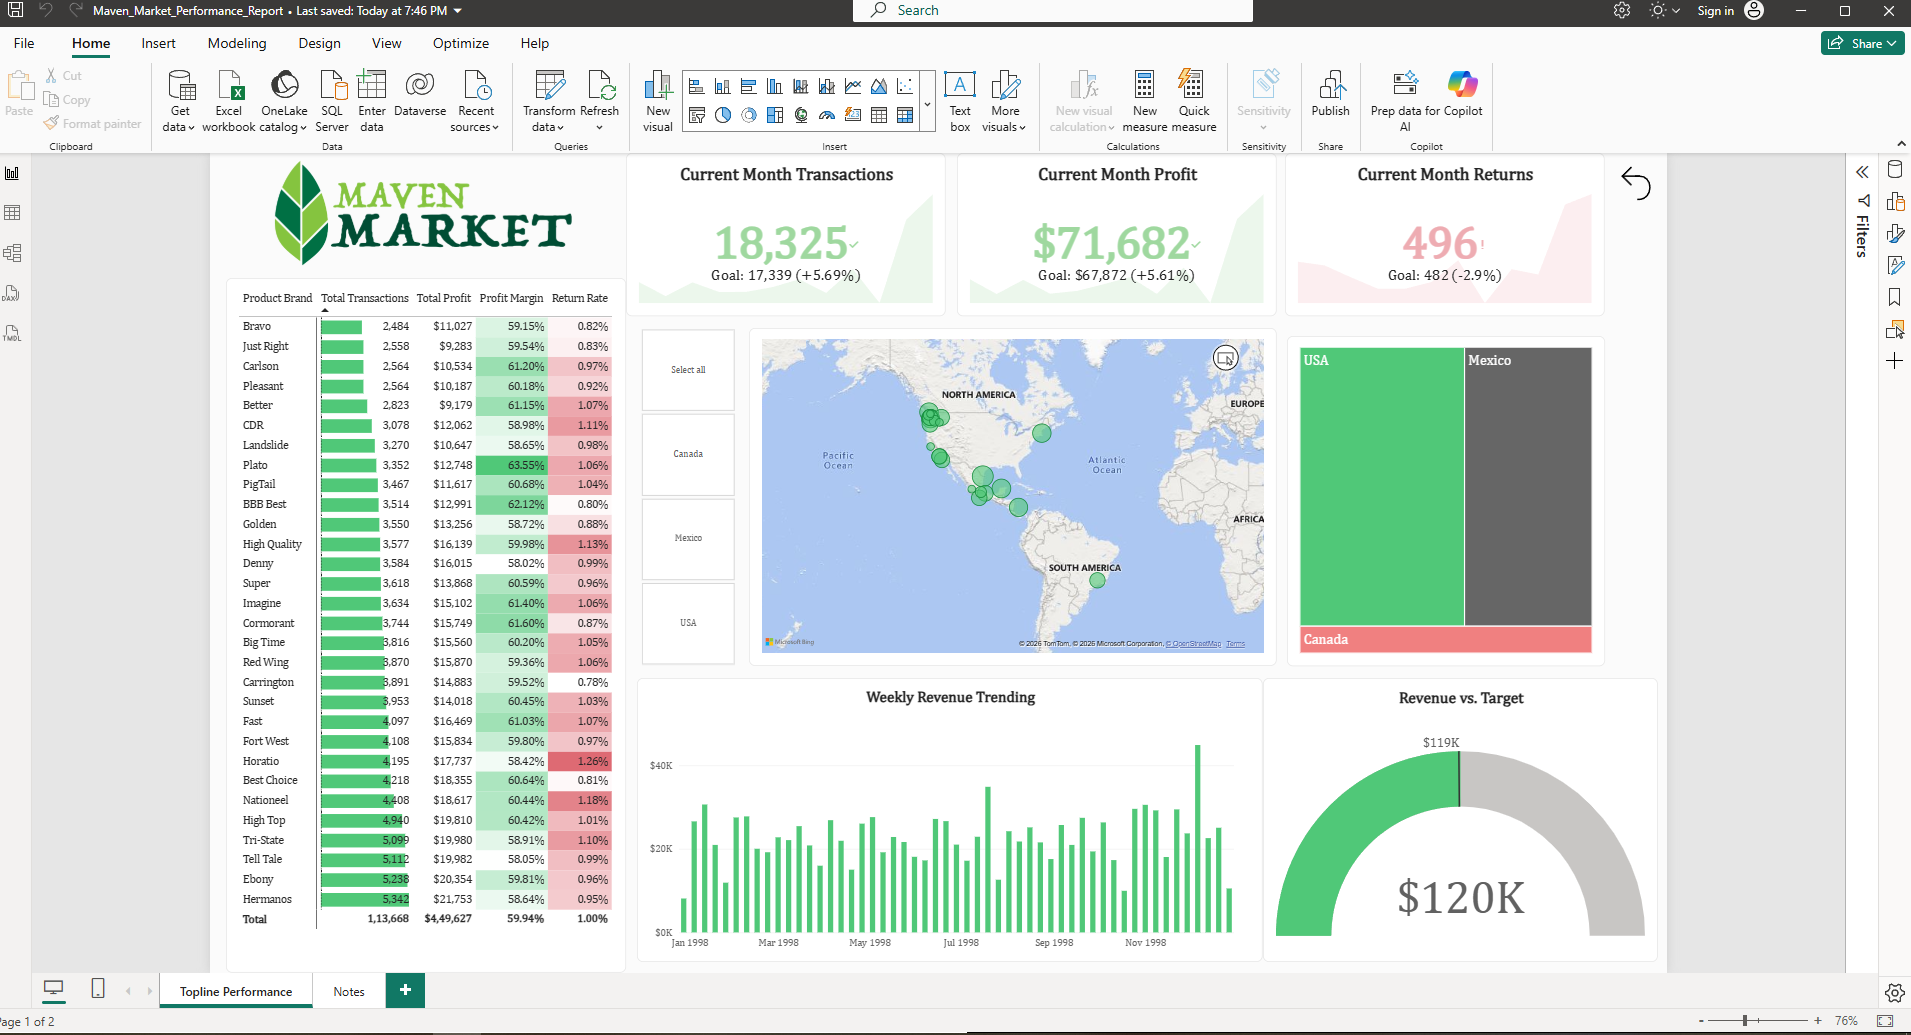

Layout of this report page (visuals, bound fields, positions):
{"tool":"powerbi","page":{"name":"Topline Performance","canvas":[1920,1080],"ordinal":0},"visuals":[{"type":"image","box":[10.5,0,537.4,156.7],"z":0},{"type":"pivotTable","fields":{"Rows":["Products.product_brand"],"Values":["Measure Table.Total Transactions","Measure Table.Total Profit","Measure Table.Profit Margin","Measure Table.Return Rate"]},"box":[21.1,164.6,526.8,915.4],"z":1000},{"type":"kpi","title":"Current Month Transactions","fields":{"Goal":["Measure Table.Last Month Transactions"],"Indicator":["Measure Table.Total Transactions"],"TrendLine":["Calendar.Start of Month"]},"box":[547.9,0,421.5,214.7],"z":2000},{"type":"kpi","title":"Current Month Profit","fields":{"Goal":["Measure Table.Last Month Profit"],"Indicator":["Measure Table.Total Profit"],"TrendLine":["Calendar.Start of Month"]},"box":[983.9,0,421,214.7],"z":3000},{"type":"kpi","title":"Current Month Returns","fields":{"Goal":["Measure Table.Last Month Returns"],"Indicator":["Measure Table.Total Returns"],"TrendLine":["Calendar.Start of Month"]},"box":[1415.9,0,421,214.7],"z":4000},{"type":"map","fields":{"Category":["Stores.store_city"],"Size":["Measure Table.Total Transactions"]},"box":[709.9,230.5,695.4,445.2],"z":5000},{"type":"slicer","fields":{"Values":["Stores.store_country"]},"box":[547.9,230.5,162,445.2],"z":6000},{"type":"treemap","fields":{"Group":["Stores.store_country","Stores.store_state","Stores.store_city"],"Values":["Measure Table.Total Transactions"]},"box":[1418.5,241,418.8,434.6],"z":7000},{"type":"columnChart","title":"Weekly Revenue Trending","fields":{"Category":["Calendar.Start of Week"],"Y":["Measure Table.Total Revenue"]},"box":[562.4,691.5,824.5,374],"z":8000},{"type":"gauge","title":"Revenue vs. Target","fields":{"TargetValue":["Measure Table.Revenue Target"],"Y":["Measure Table.Total Revenue"]},"box":[1386.9,691.5,520.2,374],"z":9000},{"type":"actionButton","box":[1837.3,0,83,79],"z":9001}]}

Visuals, with their boxes on the page's 1920x1080 design canvas (x1, y1, x2, y2). These are canvas units, not pixel positions in the 1911x1035 screenshot, which may show the page scaled, cropped or inside an application window:
image: bbox=[10, 0, 548, 157]
pivotTable - Products.product_brand x Measure Table.Total Transactions: bbox=[21, 165, 548, 1080]
"Current Month Transactions" kpi: bbox=[548, 0, 969, 215]
"Current Month Profit" kpi: bbox=[984, 0, 1405, 215]
"Current Month Returns" kpi: bbox=[1416, 0, 1837, 215]
map - Stores.store_city x Measure Table.Total Transactions: bbox=[710, 230, 1405, 676]
slicer - Stores.store_country: bbox=[548, 230, 710, 676]
treemap - Stores.store_country x Stores.store_state: bbox=[1418, 241, 1837, 676]
"Weekly Revenue Trending" columnChart: bbox=[562, 692, 1387, 1066]
"Revenue vs. Target" gauge: bbox=[1387, 692, 1907, 1066]
actionButton: bbox=[1837, 0, 1920, 79]
